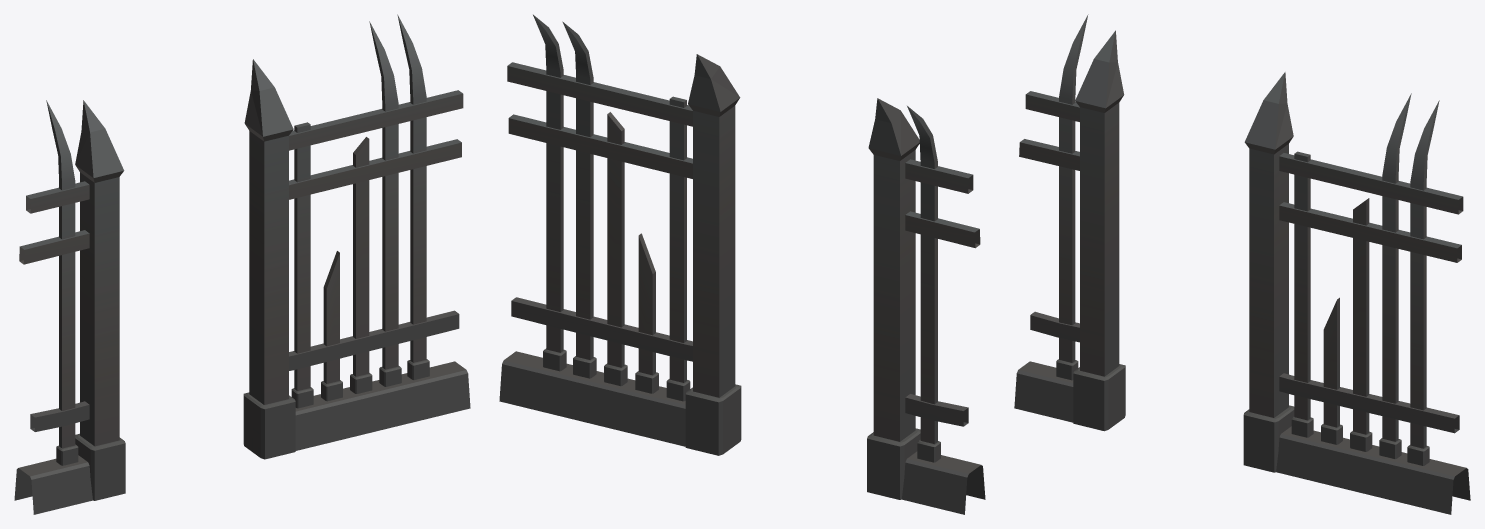
Rendered from Fence_02.fbx.
The picture shows the model from 3 angles, left to right: view 1: azimuth 30°, elevation 25°; view 2: azimuth 150°, elevation 25°; view 3: azimuth 330°, elevation 25°; orthographic projection. The views are drawn at different scales.
Parts seen in each view (by area): view 1: Fence_02; view 2: Fence_02; view 3: Fence_02.
Boxes of the visible parts, left/top/right/bottom form: Fence_02: left=14, top=14, right=470, bottom=514; Fence_02: left=499, top=14, right=985, bottom=514; Fence_02: left=1014, top=14, right=1470, bottom=514.
Bounding box in the file's own units: 374 × 311 × 46.82.
